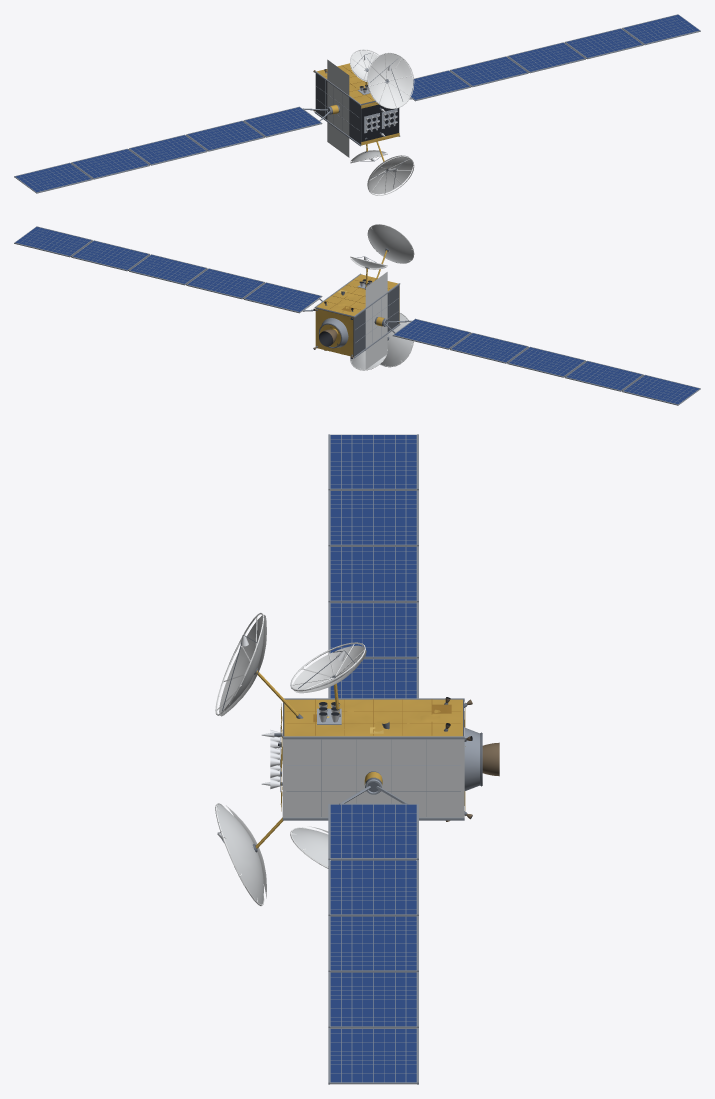
Rendered from bus-spacebus-4000.glb.
3 views of the same model, one above another, from view 1: azimuth 30°, elevation 25°; view 2: azimuth 150°, elevation 25°; view 3: azimuth 270°, elevation 25° (orthographic). The views are drawn at different scales.
Visible parts, largest first — view 1: body, solar-panel, foil; view 2: body, solar-panel, foil; view 3: solar-panel, body, foil.
Part boxes in pixels (x1,y1,x2,y2): body: (14,14,700,195); solar-panel: (15,15,699,192); foil: (316,63,399,168); body: (14,224,700,405); solar-panel: (15,227,699,404); foil: (315,250,399,356); solar-panel: (330,435,416,1082); body: (215,434,499,1084); foil: (255,670,465,848).
Bounding box in the file's own units: 32.86 × 6.7 × 6.09.
